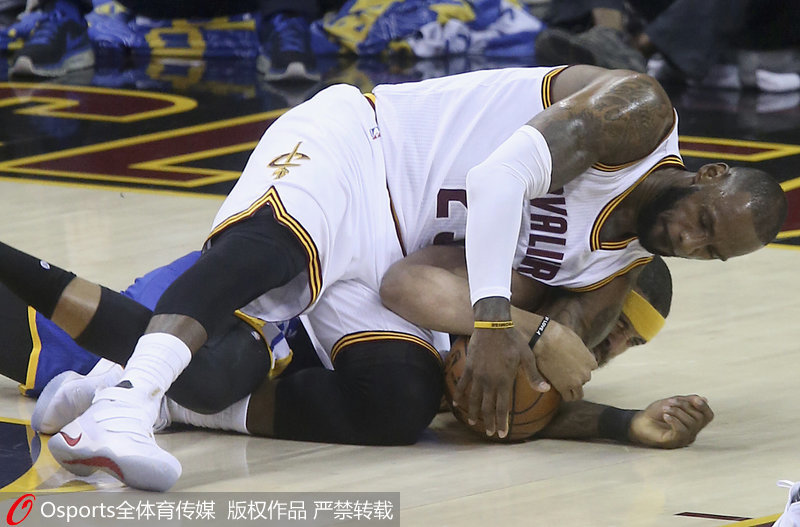fall: (30, 58, 772, 459)
